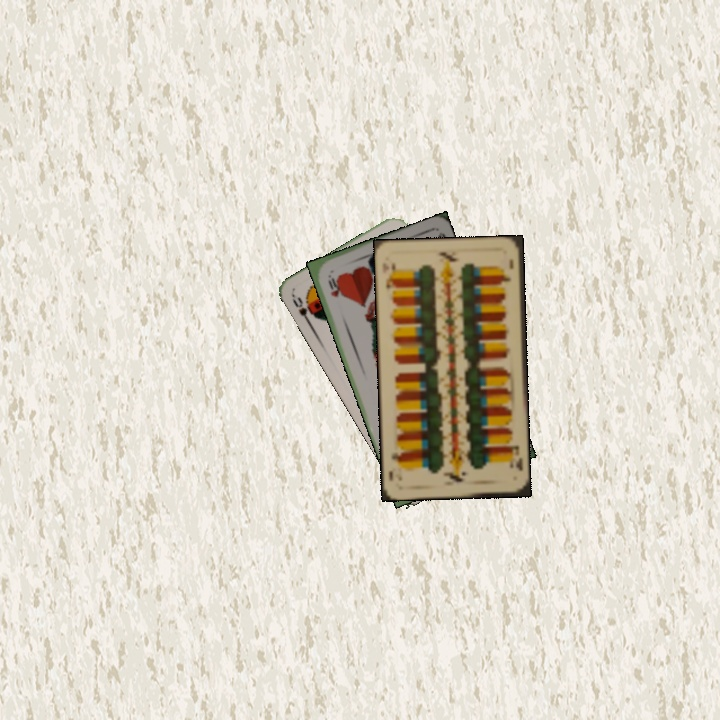E10: (504, 441, 525, 473), (382, 258, 398, 291)
HO: (324, 270, 342, 300)
SO: (288, 291, 319, 329)
